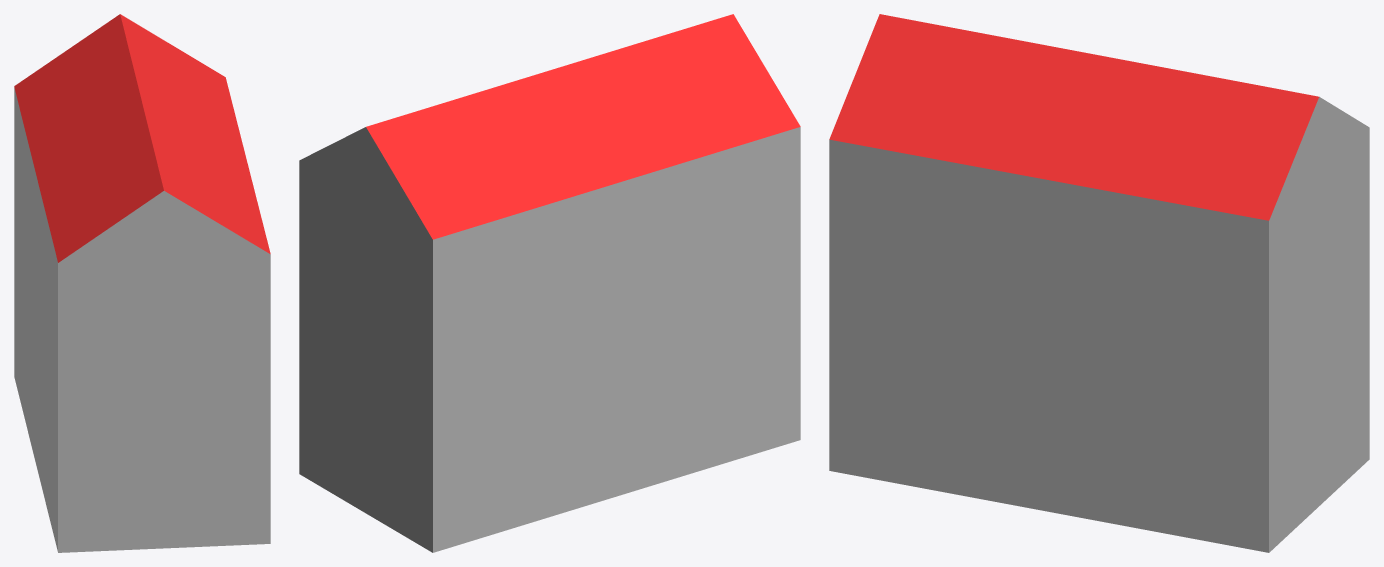
Rendered from DEBY_LOD2_4907024.dae.
The picture shows the model from 3 angles, left to right: view 1: azimuth 30°, elevation 25°; view 2: azimuth 150°, elevation 25°; view 3: azimuth 270°, elevation 25°; orthographic projection. The views are drawn at different scales.
Size of the model in its own units: 20.71 by 26.81 by 22.42.
